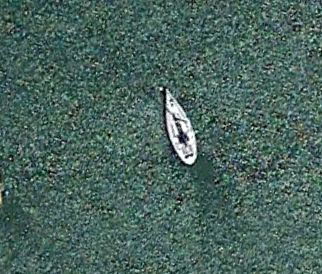boat: (162, 87, 199, 168)
